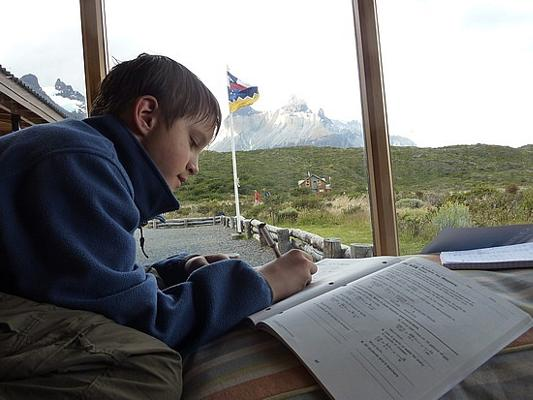person: (4, 52, 317, 400)
